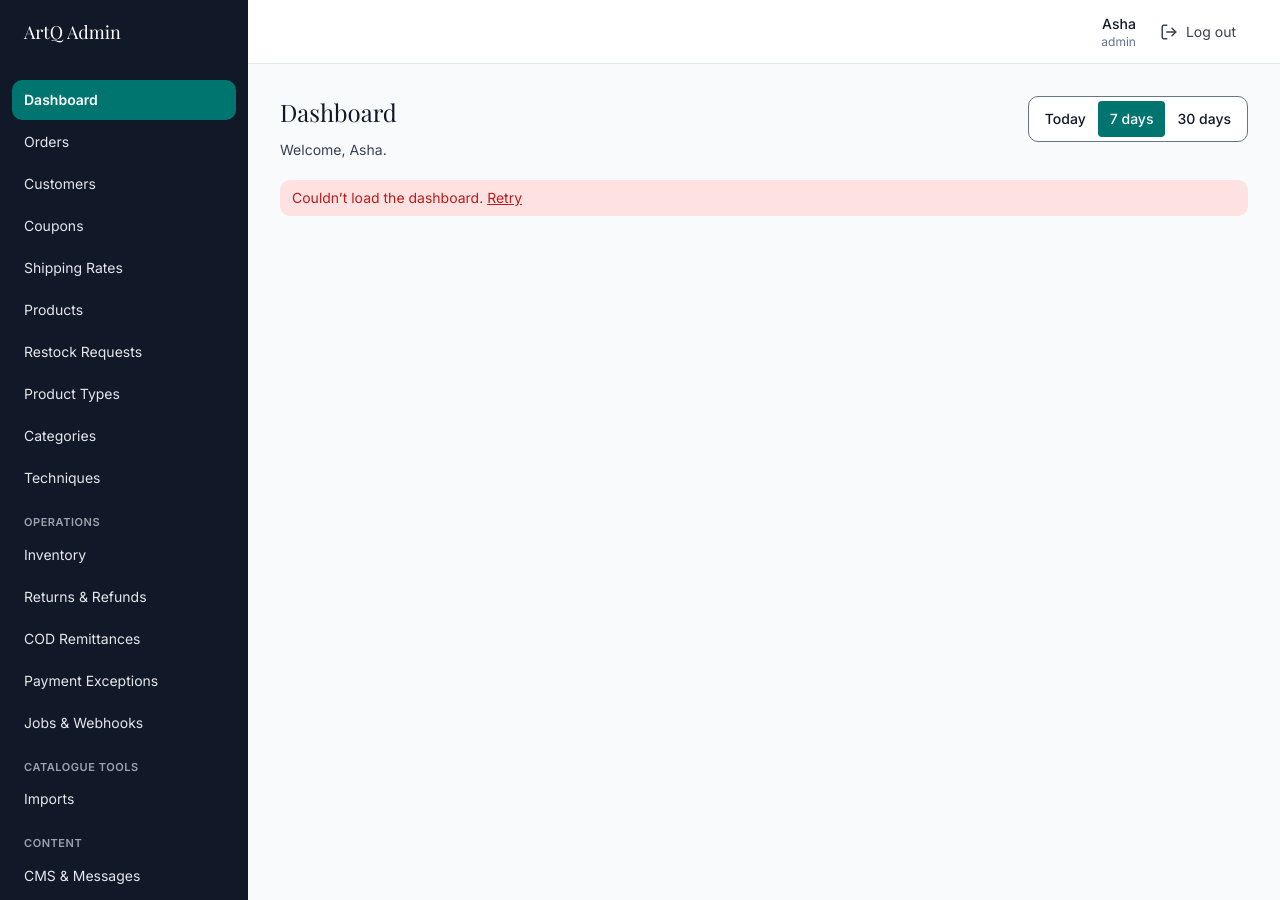
Test: login and session › logging out returns to the login page
Click the button "Log out" at point(1198, 32), box x1=1148 y1=10 x2=1248 y2=54
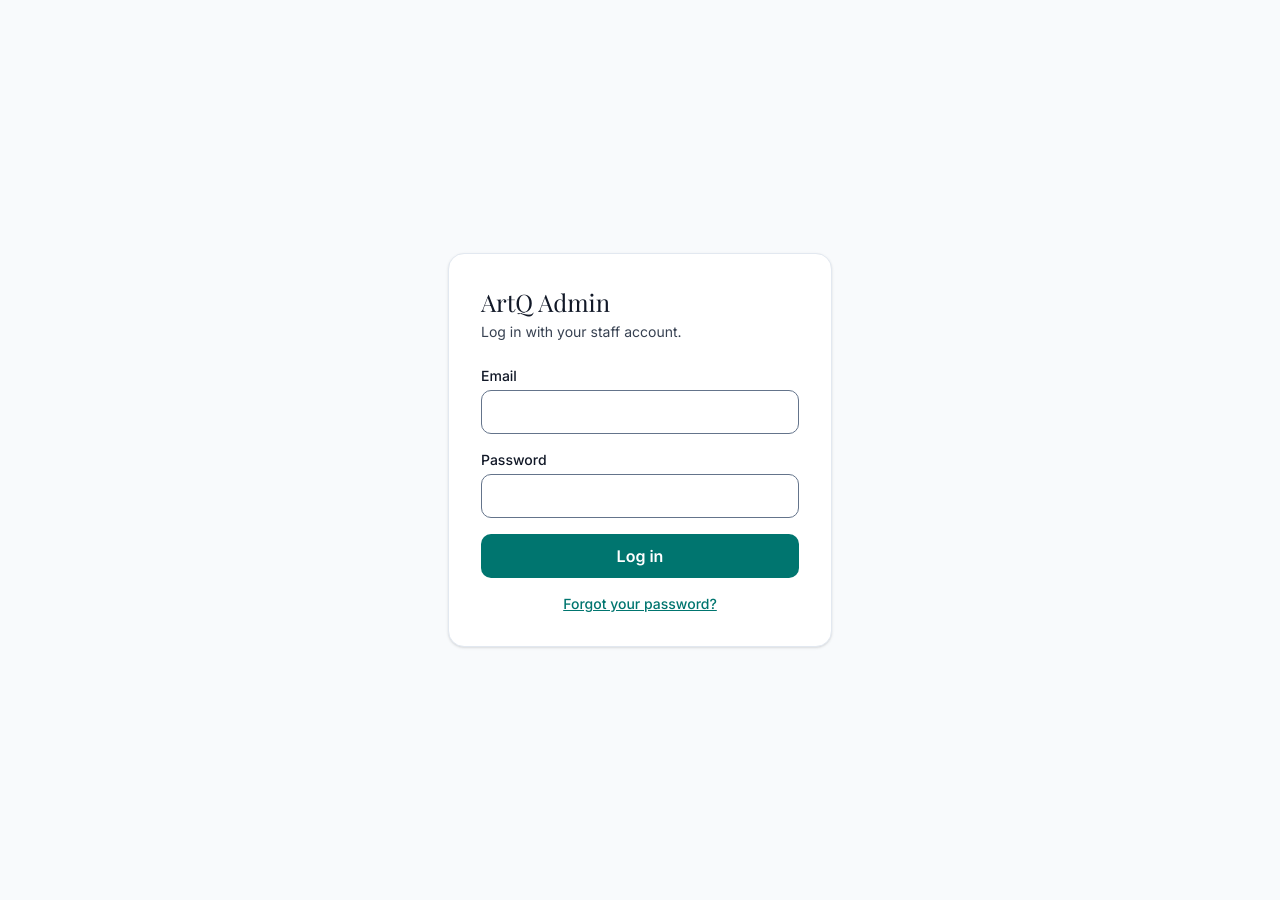
Expected: the button "Log in" is shown, x1=481 y1=534 x2=799 y2=578
